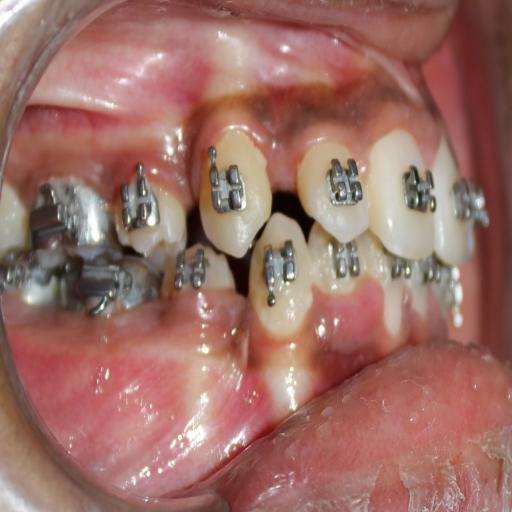correct_brace: (115, 170, 188, 268), (324, 155, 363, 210), (206, 167, 248, 217), (118, 184, 163, 227), (403, 160, 435, 217)
incorrect_brace: (295, 141, 370, 242)
